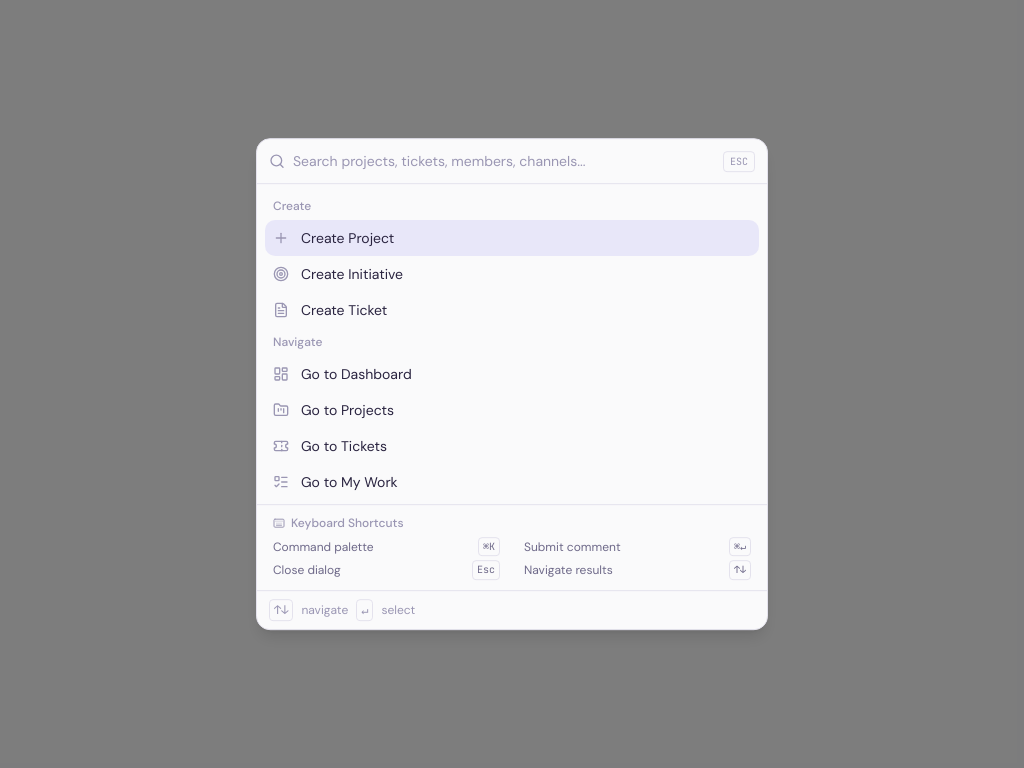
Test: CommandPalette › displays search results grouped by type
The image size is (1024, 768).
Type "cycle" into the dropdown with placeholder "Search projects, tickets, members, channels..." at (504, 161), box [293, 139, 715, 183]
Wait 350 ms
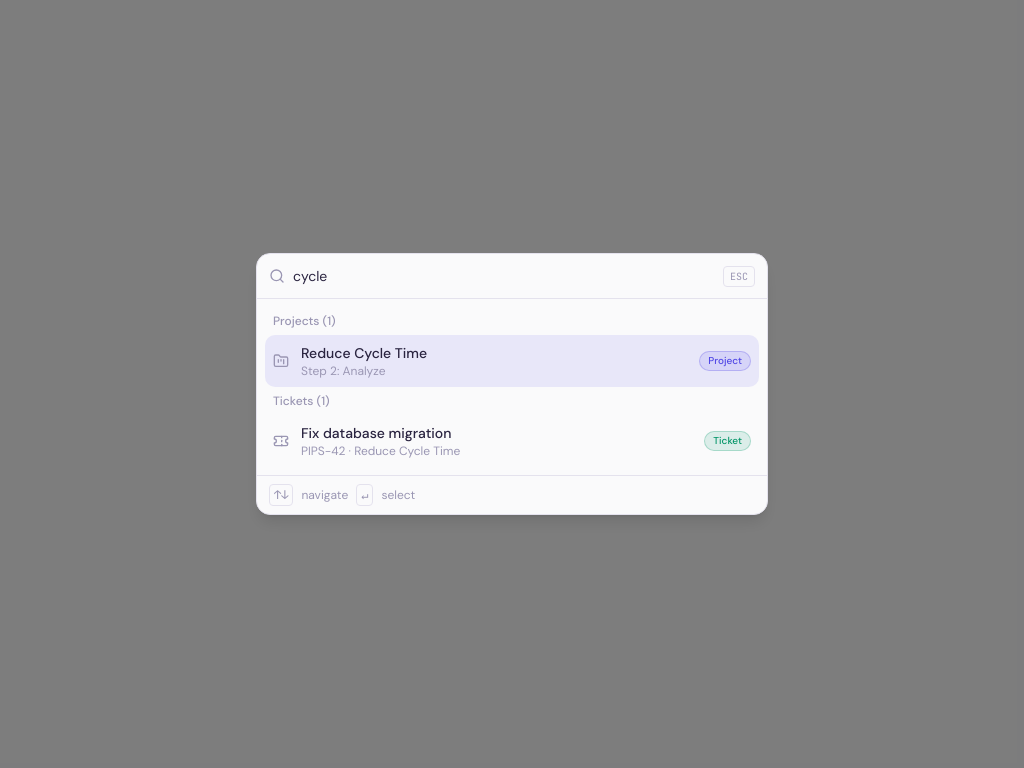
Check: the text "Reduce Cycle Time" is shown, box [301, 344, 427, 362]
Check: the text "Fix database migration" is shown, box [301, 424, 452, 442]
